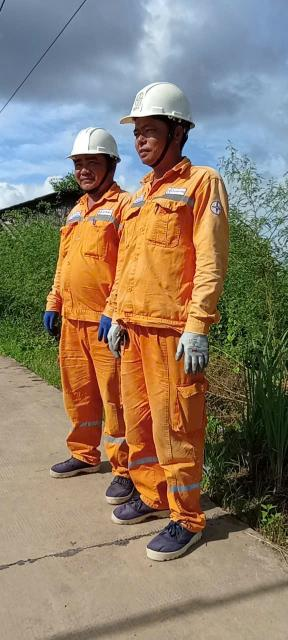gloves: (174, 321, 218, 384), (37, 311, 68, 337), (86, 311, 107, 347)
helmet: (118, 80, 203, 133), (68, 124, 122, 177)
shoes: (118, 518, 214, 561), (97, 488, 172, 522), (45, 446, 97, 482), (103, 467, 135, 503)
